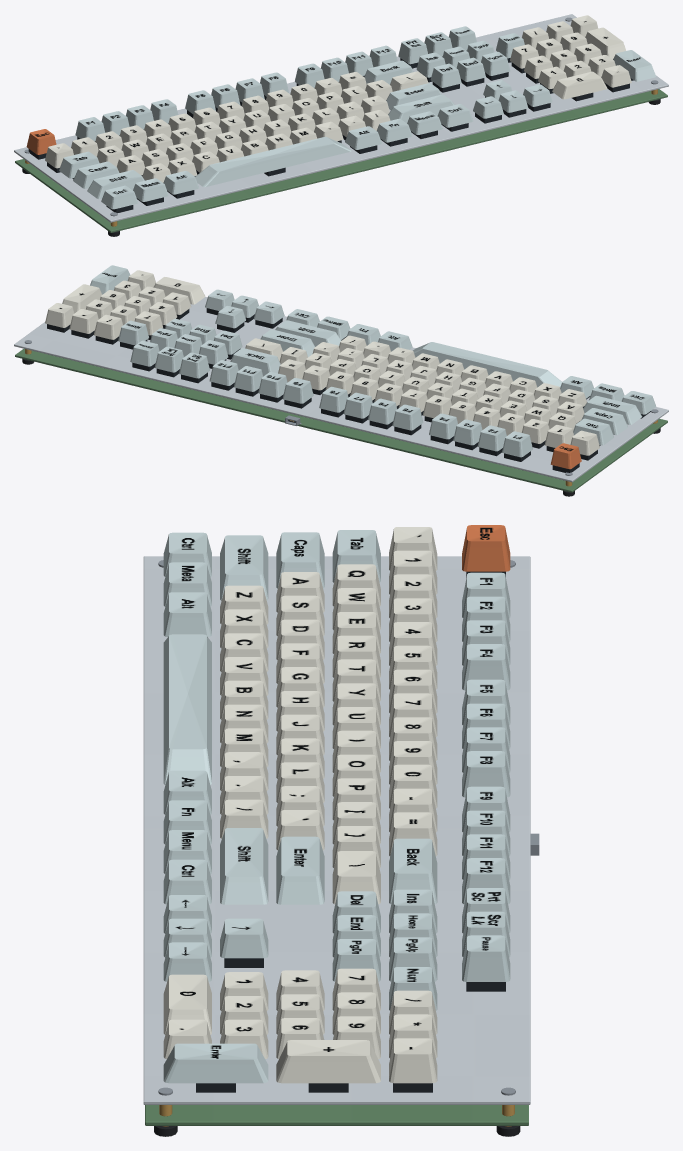
The model's file is mechanical-keyboard.glb.
3 views of the same model, one above another, from view 1: azimuth 30°, elevation 25°; view 2: azimuth 150°, elevation 25°; view 3: azimuth 270°, elevation 25° (orthographic). The views are drawn at different scales.
Visible parts, largest first — view 1: Switch mounting plate, Printed circuit substrate, Keycap 57 Space, Keycap 101 0, Keycap 53 Shift, Keycap 42 Shift, Keycap 104 Enter, Keycap 41 Enter, Keycap 103 +, Keycap 14 Back, Keycap 29 Caps, Keycap 58 Alt (+89 smaller); view 2: Switch mounting plate, Printed circuit substrate, Keycap 57 Space, Keycap 53 Shift, Keycap 14 Back, Keycap 42 Shift, Keycap 101 0, Keycap 41 Enter, Keycap 104 Enter, Keycap 103 +, Keycap 29 Caps, Keycap 67 F5 (+55 smaller); view 3: Switch mounting plate, Printed circuit substrate, Keycap 57 Space, Keycap 103 +, Keycap 104 Enter, Keycap 53 Shift, Keycap 41 Enter, Keycap 14 Back, Keycap 42 Shift, Keycap 101 0, Keycap 62 Esc, Keycap 77 Pause (+94 smaller).
Part boxes in pixels (bbox=[...]): Switch mounting plate: bbox=[14, 14, 668, 222]; Printed circuit substrate: bbox=[15, 89, 667, 232]; Keycap 57 Space: bbox=[195, 136, 351, 187]; Keycap 101 0: bbox=[552, 71, 607, 99]; Keycap 53 Shift: bbox=[388, 94, 454, 123]; Keycap 42 Shift: bbox=[87, 170, 144, 199]; Keycap 104 Enter: bbox=[613, 50, 656, 81]; Keycap 41 Enter: bbox=[386, 83, 441, 110]; Keycap 103 +: bbox=[585, 27, 626, 59]; Keycap 14 Back: bbox=[364, 60, 413, 84]; Keycap 29 Caps: bbox=[73, 161, 119, 188]; Keycap 58 Alt: bbox=[345, 126, 381, 149]; Switch mounting plate: bbox=[14, 297, 668, 482]; Printed circuit substrate: bbox=[15, 348, 667, 492]; Keycap 57 Space: bbox=[413, 342, 561, 387]; Keycap 53 Shift: bbox=[275, 320, 341, 346]; Keycap 14 Back: bbox=[230, 348, 280, 376]; Keycap 42 Shift: bbox=[583, 395, 642, 424]; Keycap 101 0: bbox=[153, 277, 205, 304]; Keycap 41 Enter: bbox=[260, 329, 314, 357]; Keycap 104 Enter: bbox=[90, 265, 130, 294]; Keycap 103 +: bbox=[62, 284, 102, 313]; Keycap 29 Caps: bbox=[581, 408, 627, 435]; Keycap 67 F5: bbox=[392, 404, 423, 430]; Switch mounting plate: bbox=[143, 556, 530, 1104]; Printed circuit substrate: bbox=[145, 1105, 528, 1125]; Keycap 57 Space: bbox=[163, 634, 211, 784]; Keycap 103 +: bbox=[276, 1040, 380, 1083]; Keycap 104 Enter: bbox=[163, 1043, 268, 1083]; Keycap 53 Shift: bbox=[220, 828, 268, 904]; Keycap 41 Enter: bbox=[276, 836, 324, 904]; Keycap 14 Back: bbox=[389, 838, 437, 904]; Keycap 42 Shift: bbox=[220, 535, 268, 600]; Keycap 101 0: bbox=[163, 974, 211, 1034]; Keycap 62 Esc: bbox=[462, 525, 510, 571]; Keycap 77 Pause: bbox=[462, 935, 510, 981].
Bounding box in the file's own units: 0.4366 × 0.0296 × 0.134.
Materials: 7 (7 with a texture image).
